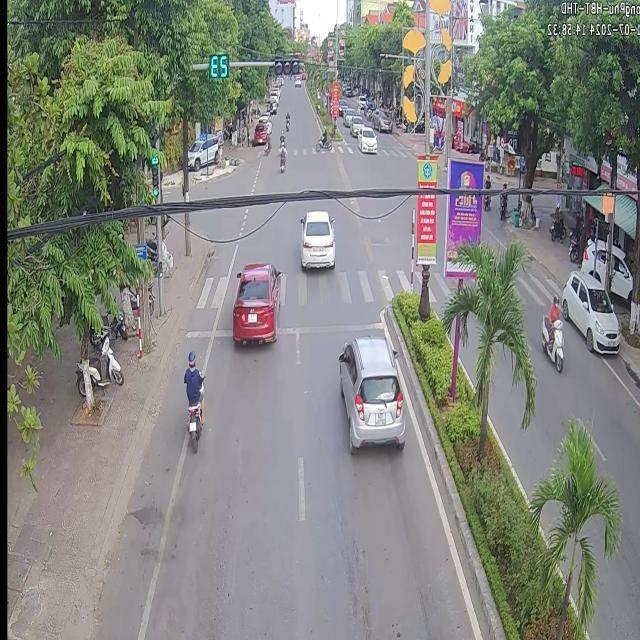car: (337, 334, 404, 451), (560, 269, 618, 351), (230, 260, 279, 341), (298, 209, 334, 268)
green_light: (151, 151, 160, 200), (210, 54, 227, 75)
motobike: (182, 360, 203, 451), (539, 314, 562, 370)
stop_line: (277, 320, 380, 334), (184, 329, 210, 336), (213, 327, 230, 336)
